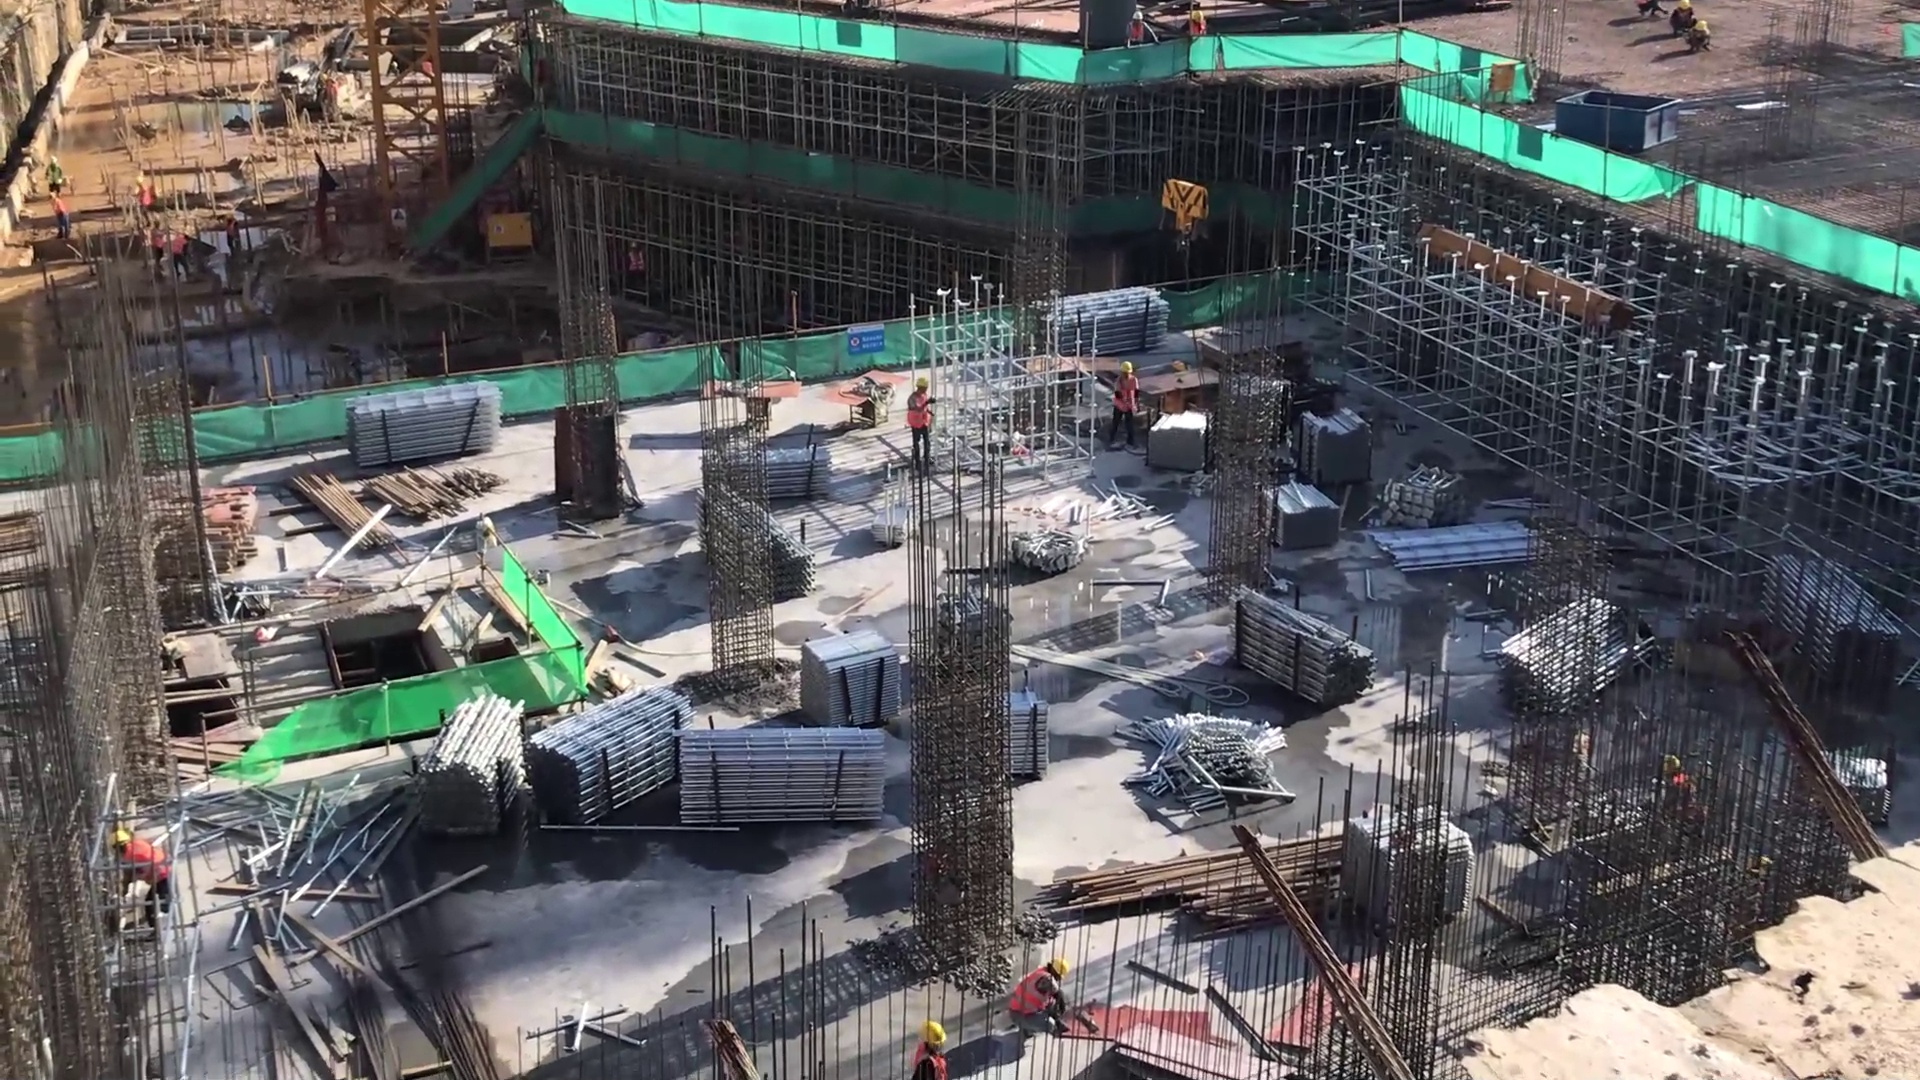cutter: (698, 370, 809, 427), (820, 365, 915, 426)
ebox: (484, 202, 541, 281)
helmet: (912, 1015, 948, 1051), (109, 826, 132, 856), (1114, 356, 1140, 381), (1046, 958, 1071, 983), (910, 371, 932, 395)
hook: (1150, 167, 1217, 252)
hopper: (1548, 78, 1684, 167)
person: (1008, 958, 1100, 1050), (101, 825, 177, 923), (898, 370, 945, 466), (1103, 356, 1149, 449), (897, 1012, 954, 1080)
scaffold: (664, 716, 896, 841), (526, 678, 700, 838), (1224, 581, 1382, 716), (401, 687, 535, 842), (335, 372, 509, 476), (794, 612, 903, 734), (1039, 275, 1176, 370), (1296, 400, 1378, 499), (1253, 477, 1347, 557), (1139, 409, 1222, 474), (768, 442, 844, 502)
vest: (124, 836, 172, 890), (1008, 966, 1052, 1016), (909, 1042, 951, 1080), (904, 396, 938, 434), (1110, 377, 1142, 416)
